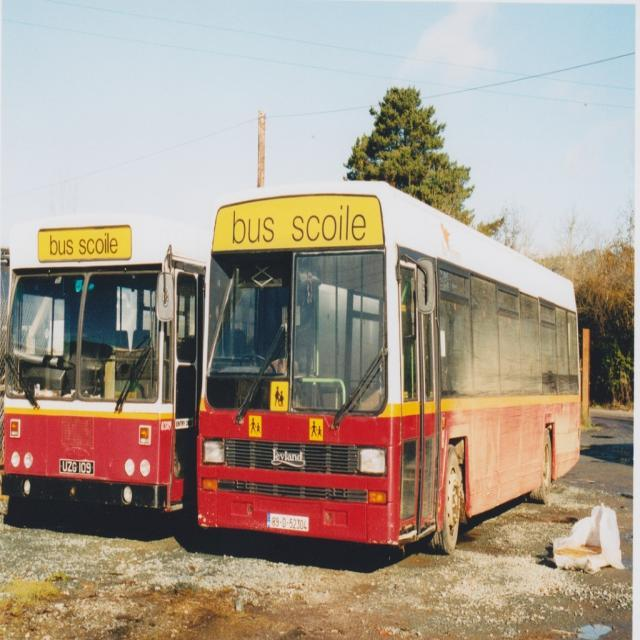motorcycle: (197, 180, 583, 554), (4, 220, 207, 510)
